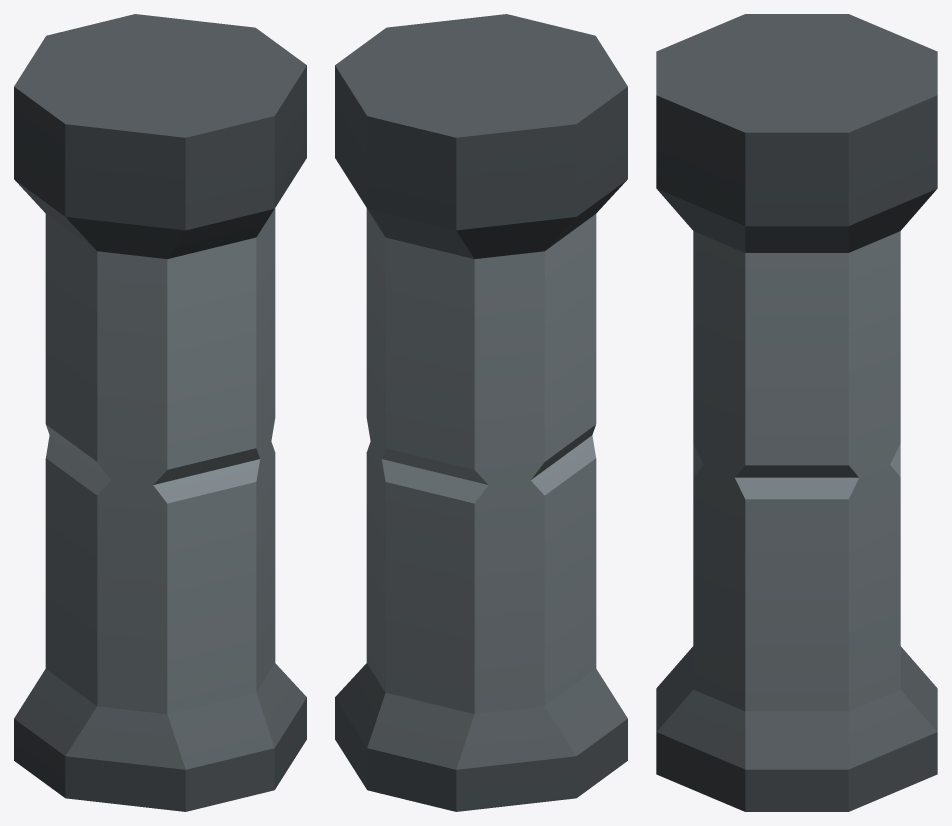
The model's file is pillar.glb.
3 views of the same model, side by side, from view 1: azimuth 30°, elevation 25°; view 2: azimuth 150°, elevation 25°; view 3: azimuth 270°, elevation 25° (orthographic).
Visible parts, largest first — view 1: pillar; view 2: pillar; view 3: pillar.
Part boxes in pixels (<box>): pillar: <box>14,14,306,811</box>; pillar: <box>335,14,627,811</box>; pillar: <box>656,14,937,811</box>.
Bounding box in the file's own units: 1.5 × 4 × 1.5.
Materials: 1 (1 with a texture image).
